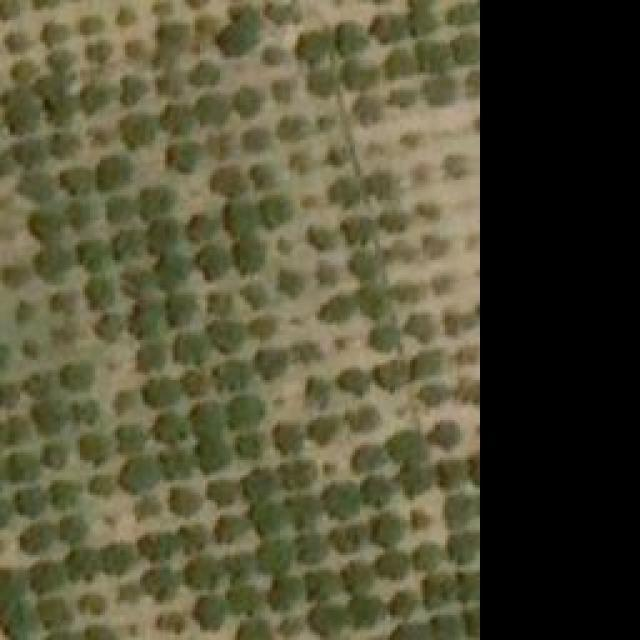Tree: (218, 8, 261, 53), (3, 83, 38, 133), (27, 248, 65, 283), (137, 565, 175, 600), (117, 113, 155, 148), (98, 158, 138, 191), (155, 252, 188, 290), (193, 595, 226, 633), (282, 493, 320, 526), (183, 555, 218, 590), (120, 460, 155, 495), (233, 238, 268, 273), (42, 80, 70, 123), (115, 268, 150, 301), (28, 563, 63, 596), (195, 438, 230, 471), (325, 483, 360, 516), (445, 495, 478, 530), (130, 300, 160, 338), (222, 395, 260, 425), (385, 433, 423, 463), (0, 602, 32, 637), (78, 80, 111, 113), (80, 433, 113, 466), (373, 513, 406, 546), (135, 532, 173, 560), (140, 188, 175, 218), (18, 523, 53, 553), (100, 543, 135, 573), (30, 403, 65, 433), (370, 13, 405, 43), (415, 43, 450, 73), (420, 73, 450, 108), (260, 195, 295, 225), (343, 560, 373, 595), (33, 210, 66, 240), (75, 240, 108, 270), (68, 550, 101, 580), (225, 583, 258, 613), (158, 450, 191, 480), (350, 95, 380, 128), (223, 205, 256, 235), (198, 245, 228, 278), (173, 333, 206, 363), (283, 458, 316, 488), (258, 540, 291, 570), (348, 598, 381, 628), (423, 575, 453, 608), (448, 533, 478, 566), (400, 460, 430, 493), (442, 308, 475, 338), (143, 377, 178, 405), (343, 60, 378, 88), (368, 172, 403, 200), (440, 150, 471, 180), (117, 73, 145, 106), (153, 225, 186, 253), (110, 422, 143, 450), (168, 485, 201, 513), (210, 167, 243, 195), (215, 360, 248, 388), (237, 425, 265, 458), (255, 350, 288, 378), (320, 300, 353, 328), (247, 500, 275, 533), (378, 552, 411, 580), (413, 542, 446, 570), (330, 525, 363, 553), (328, 177, 361, 205), (133, 340, 163, 370), (190, 405, 220, 435), (275, 118, 310, 143), (343, 408, 378, 433), (157, 23, 185, 53), (190, 13, 218, 43), (115, 230, 143, 260), (177, 520, 205, 550), (235, 85, 263, 115), (197, 93, 225, 123), (163, 105, 193, 133), (305, 67, 335, 95), (385, 48, 413, 78), (210, 322, 240, 350), (275, 423, 303, 453), (357, 288, 385, 318), (367, 323, 395, 353), (338, 367, 368, 395), (405, 310, 435, 338), (363, 472, 393, 500), (60, 167, 88, 195), (10, 452, 38, 480), (335, 25, 363, 53), (167, 142, 195, 170), (212, 515, 240, 543), (270, 577, 298, 605), (310, 610, 338, 638), (437, 460, 465, 488), (48, 133, 81, 156), (48, 325, 81, 348), (455, 33, 478, 66), (375, 365, 408, 388), (288, 150, 316, 177), (40, 20, 70, 45), (18, 175, 48, 200), (238, 128, 268, 153), (165, 298, 195, 323), (303, 378, 328, 408), (348, 250, 373, 280), (328, 143, 356, 169), (458, 378, 482, 408), (155, 73, 183, 98), (15, 140, 40, 168), (105, 198, 133, 223), (82, 280, 110, 305), (52, 483, 80, 508), (57, 515, 85, 540), (40, 597, 65, 625), (155, 415, 183, 440), (128, 500, 163, 520), (295, 35, 323, 60), (408, 7, 433, 35), (205, 290, 233, 315), (277, 270, 305, 295), (415, 350, 440, 378), (245, 467, 270, 495), (298, 535, 323, 563), (78, 593, 108, 616), (95, 315, 125, 338), (263, 3, 293, 26), (448, 3, 478, 26), (430, 617, 460, 640), (458, 573, 481, 603), (235, 622, 273, 640), (423, 233, 450, 258), (190, 63, 218, 86), (430, 423, 458, 446), (307, 418, 335, 441), (205, 483, 233, 506), (68, 205, 93, 230), (20, 485, 45, 510), (0, 420, 25, 445), (63, 365, 88, 390), (253, 160, 278, 185), (188, 215, 213, 240), (240, 280, 265, 305), (308, 228, 333, 253), (353, 445, 378, 470), (433, 273, 458, 298), (415, 198, 442, 221), (453, 348, 481, 370), (23, 375, 53, 395), (88, 123, 113, 146), (223, 553, 248, 576), (310, 573, 333, 598), (390, 593, 415, 616), (2, 33, 30, 53), (0, 570, 20, 598), (87, 475, 115, 495), (250, 318, 278, 338), (410, 508, 433, 532), (3, 265, 26, 288), (40, 443, 63, 466), (73, 400, 96, 423), (185, 370, 208, 393), (313, 263, 336, 286), (345, 218, 368, 241), (465, 67, 481, 100), (398, 128, 421, 150), (42, 52, 70, 70), (270, 80, 295, 100), (80, 625, 113, 640), (13, 63, 36, 83), (115, 5, 138, 25), (110, 393, 130, 416), (13, 300, 33, 323), (53, 293, 76, 313), (418, 385, 441, 405), (160, 612, 185, 630), (395, 280, 420, 298), (278, 617, 303, 635), (395, 625, 425, 640), (335, 335, 355, 356), (80, 15, 103, 33), (88, 42, 111, 60), (0, 385, 18, 408), (260, 47, 283, 65), (383, 212, 406, 230), (465, 610, 478, 638), (0, 0, 18, 20), (125, 40, 145, 58), (115, 585, 135, 603), (390, 90, 410, 108), (275, 235, 293, 253), (295, 345, 315, 360), (390, 245, 410, 260), (23, 340, 38, 358), (315, 115, 333, 130)
